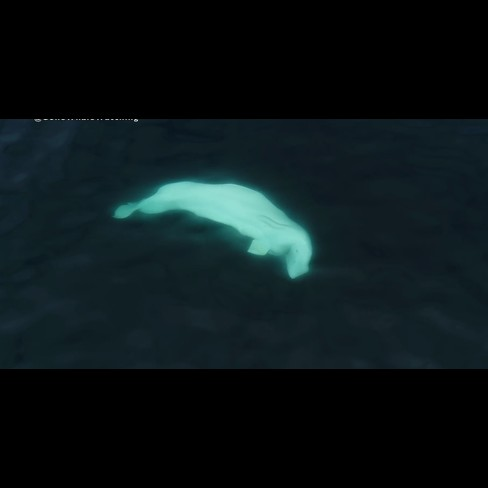beluga: (111, 169, 322, 286)
